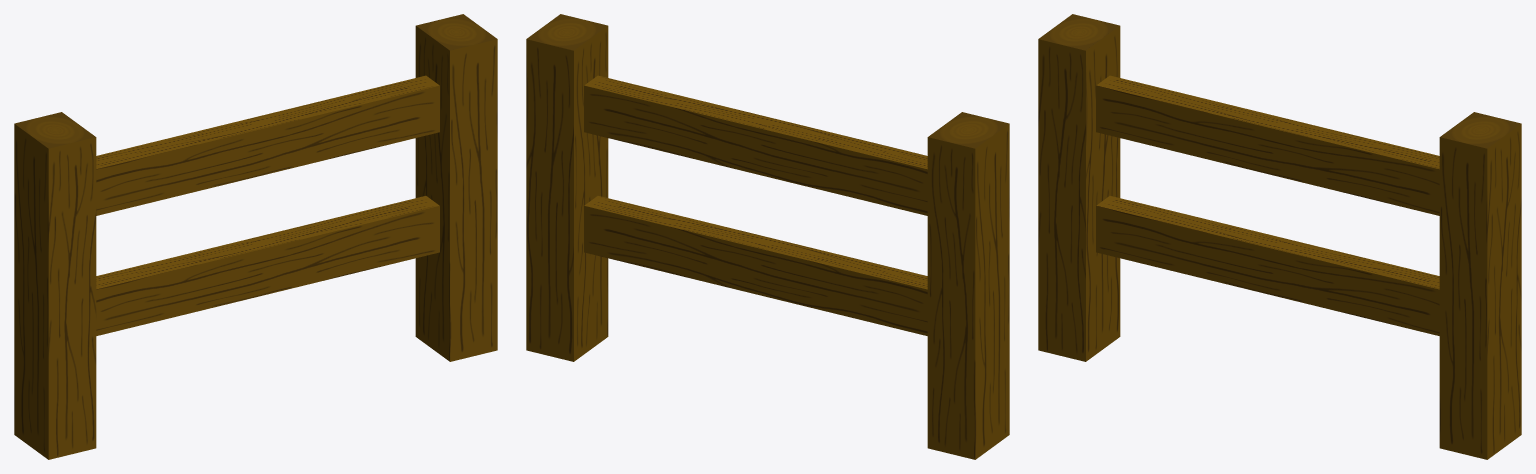
File: WoodenBarrier.fbx
The picture shows the model from 3 angles, left to right: view 1: azimuth 30°, elevation 25°; view 2: azimuth 150°, elevation 25°; view 3: azimuth 330°, elevation 25°; orthographic projection.
Visible parts, largest first — view 1: Fencepost, Fencepost1, Beam_Breaky1, Beam_Breaky2, Beam_Breaky3, Beam_Breaky; view 2: Fencepost, Fencepost1, Beam_Breaky1, Beam_Breaky2, Beam_Breaky3, Beam_Breaky; view 3: Fencepost1, Fencepost, Beam_Breaky, Beam_Breaky3, Beam_Breaky2, Beam_Breaky1.
Boxes of the visible parts, x1=… form: Fencepost: x1=14, y1=112, x2=96, y2=459; Fencepost1: x1=415, y1=14, x2=497, y2=361; Beam_Breaky1: x1=249, y1=196, x2=439, y2=295; Beam_Breaky2: x1=249, y1=75, x2=439, y2=175; Beam_Breaky3: x1=96, y1=118, x2=262, y2=215; Beam_Breaky: x1=96, y1=239, x2=262, y2=335; Fencepost: x1=927, y1=112, x2=1009, y2=459; Fencepost1: x1=526, y1=14, x2=608, y2=361; Beam_Breaky1: x1=584, y1=196, x2=774, y2=295; Beam_Breaky2: x1=584, y1=75, x2=774, y2=175; Beam_Breaky3: x1=761, y1=118, x2=927, y2=215; Beam_Breaky: x1=761, y1=239, x2=927, y2=335; Fencepost1: x1=1439, y1=112, x2=1521, y2=459; Fencepost: x1=1038, y1=14, x2=1120, y2=361; Beam_Breaky: x1=1096, y1=196, x2=1286, y2=295; Beam_Breaky3: x1=1096, y1=75, x2=1285, y2=175; Beam_Breaky2: x1=1273, y1=118, x2=1439, y2=215; Beam_Breaky1: x1=1273, y1=239, x2=1439, y2=335.
Size of the model in its own units: 302 by 200 by 40.
Materials: 1 (1 with a texture image).
